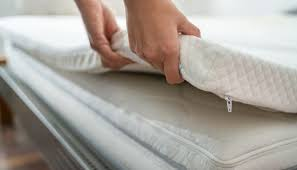bed-matress: (1, 13, 297, 170)
